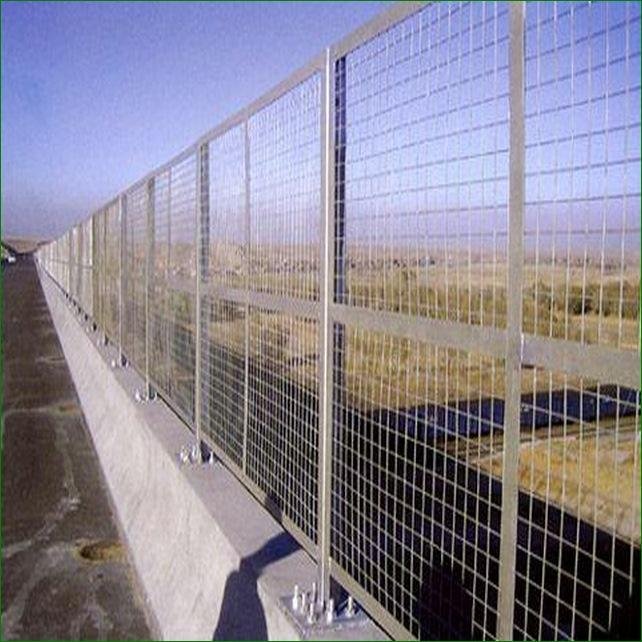sign: (157, 1, 642, 631)
